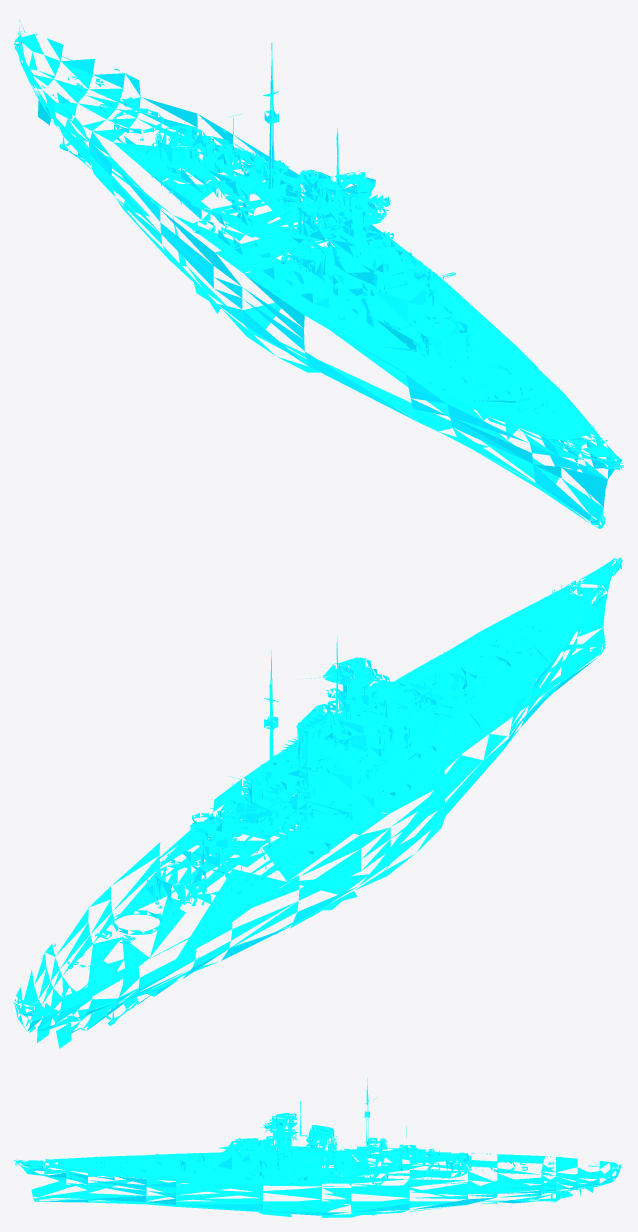
The model's file is Bismarck.glb.
3 renders of one model, top to bottom at view 1: azimuth 30°, elevation 25°; view 2: azimuth 150°, elevation 25°; view 3: azimuth 270°, elevation 25°, orthographic. The views are drawn at different scales.
Bounding box in the file's own units: 2.4 × 3.77 × 16.81.
